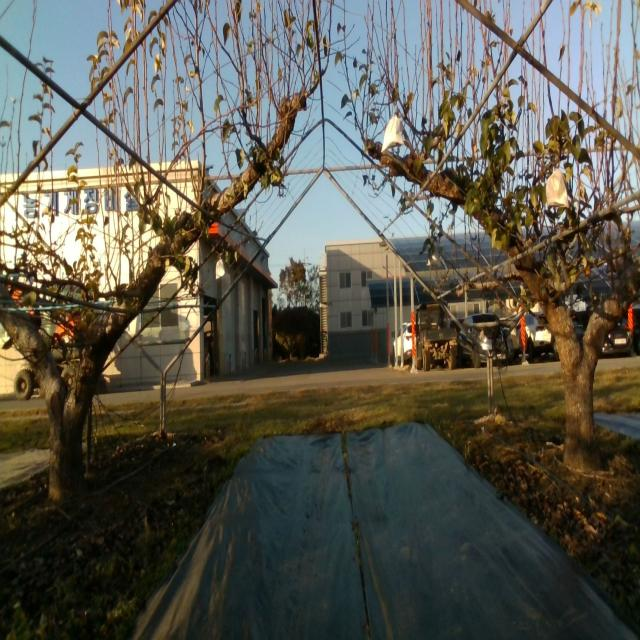pearbags: (545, 168, 570, 211), (381, 115, 404, 154), (426, 249, 441, 268), (216, 256, 224, 280)
